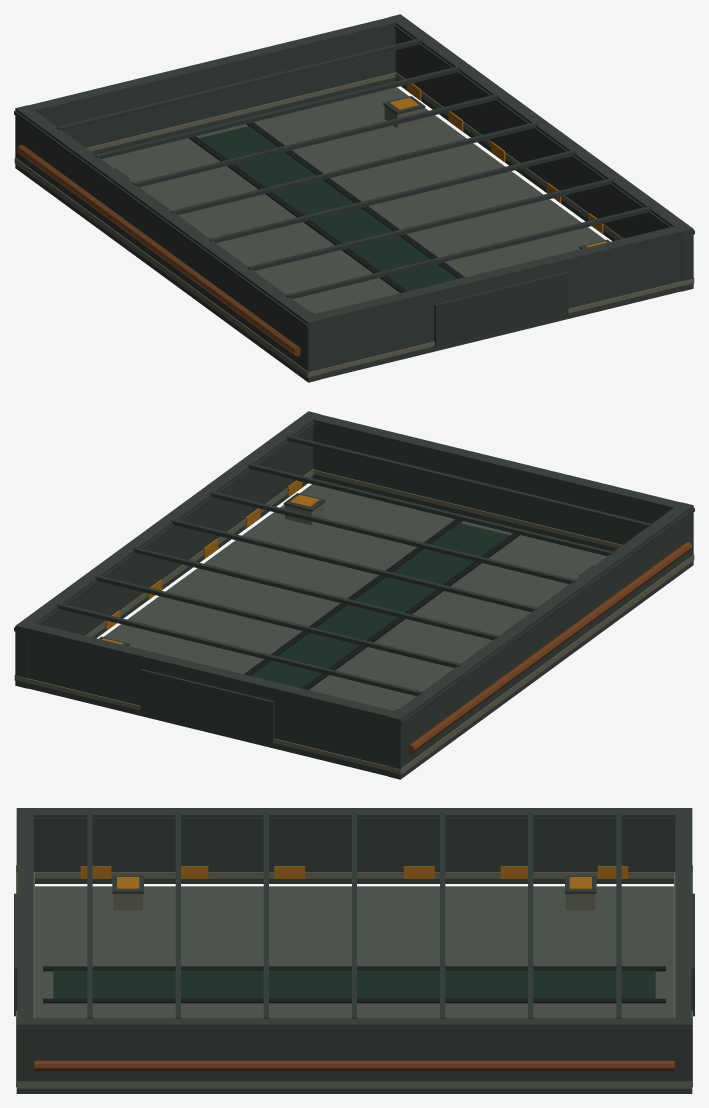
The model's file is prototype_sewer.obj.
3 views of the same model, one above another, from view 1: azimuth 30°, elevation 25°; view 2: azimuth 150°, elevation 25°; view 3: azimuth 270°, elevation 25° (orthographic). The views are drawn at different scales.
Bounding box in the file's own units: 18.04 × 2.89 × 23.18.
